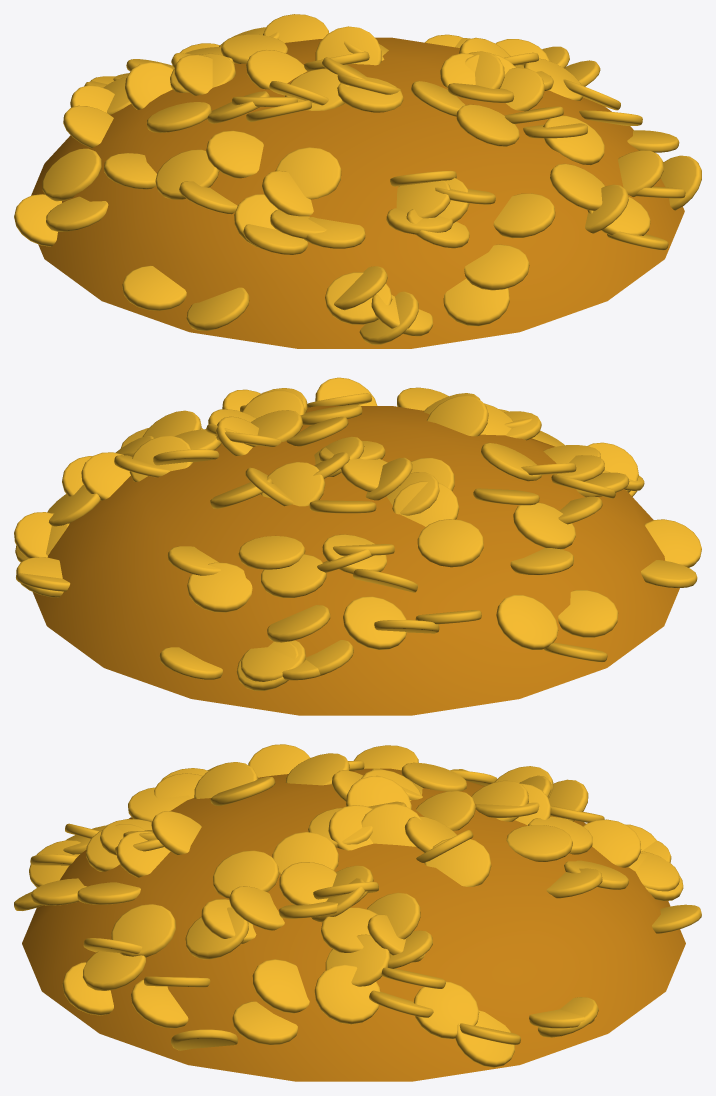
Rendered from coinpile_l.glb.
3 renders of one model, top to bottom at view 1: azimuth 30°, elevation 25°; view 2: azimuth 150°, elevation 25°; view 3: azimuth 270°, elevation 25°, orthographic.
Parts seen in each view (by area): view 1: coinpile_l; view 2: coinpile_l; view 3: coinpile_l.
Boxes of the visible parts, x1=… form: coinpile_l: x1=14, y1=14, x2=701, y2=348; coinpile_l: x1=14, y1=377, x2=701, y2=715; coinpile_l: x1=14, y1=744, x2=701, y2=1081.
Bounding box in the file's own units: 1.78 × 0.4045 × 1.84.
